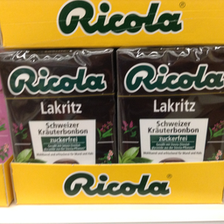candy: (112, 45, 224, 184), (1, 49, 117, 180)
